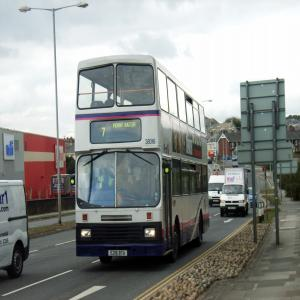Vehicle-registration-plate: (109, 250, 128, 256), (228, 207, 236, 210)
